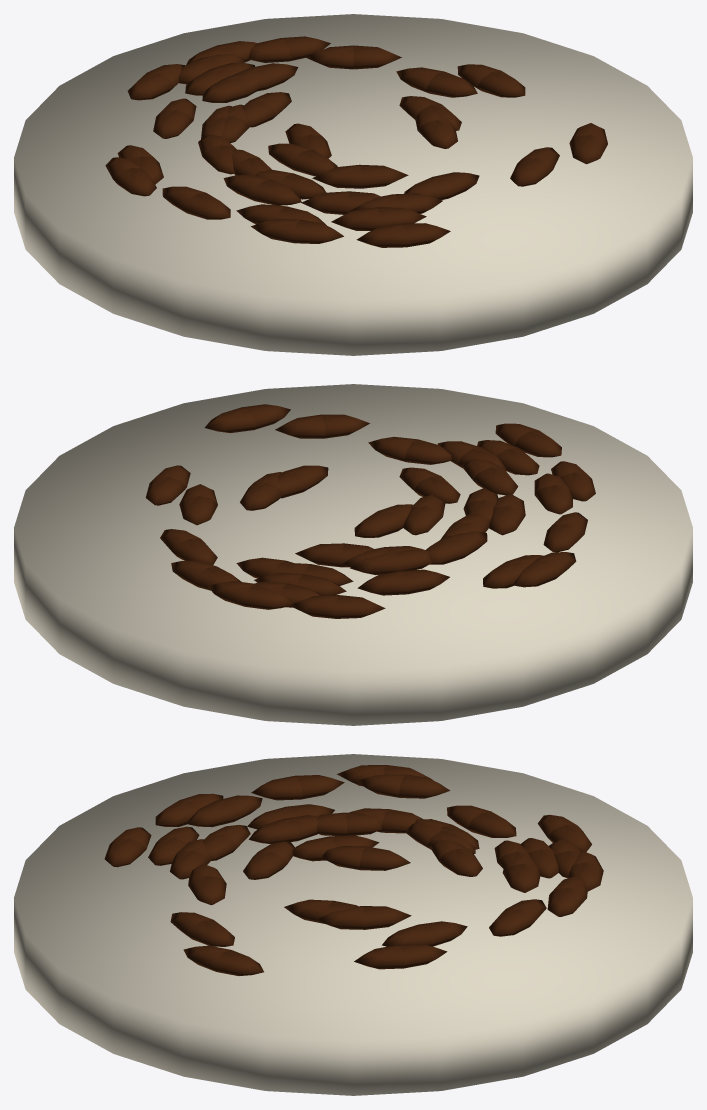
Rendered from CP10c-seeds.glb.
3 renders of one model, top to bottom at view 1: azimuth 30°, elevation 25°; view 2: azimuth 150°, elevation 25°; view 3: azimuth 270°, elevation 25°, orthographic.
Parts seen in each view (by area): view 1: CP10c-seeds; view 2: CP10c-seeds; view 3: CP10c-seeds.
Boxes of the visible parts, <box> form: CP10c-seeds: <box>14,14,692,355</box>; CP10c-seeds: <box>14,384,692,725</box>; CP10c-seeds: <box>14,754,692,1095</box>.
Bounding box in the file's own units: 0.28 × 0.038 × 0.28.
